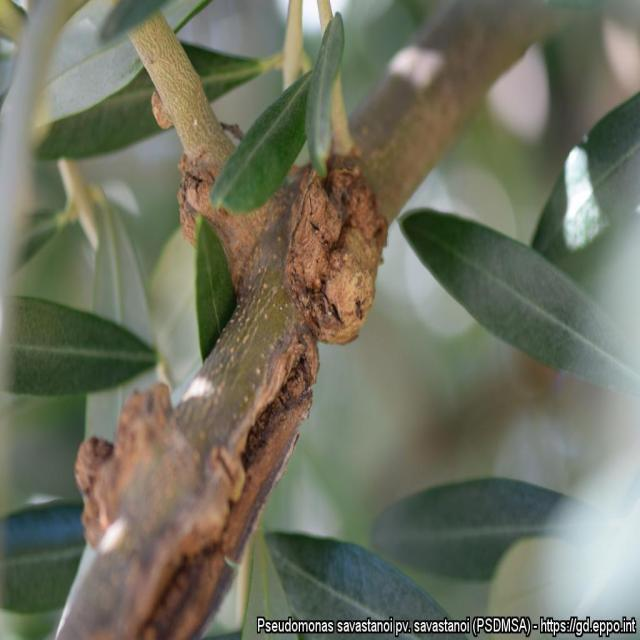Tuberculosis: (286, 158, 386, 344), (76, 384, 172, 551), (178, 143, 234, 246), (151, 90, 179, 130)
